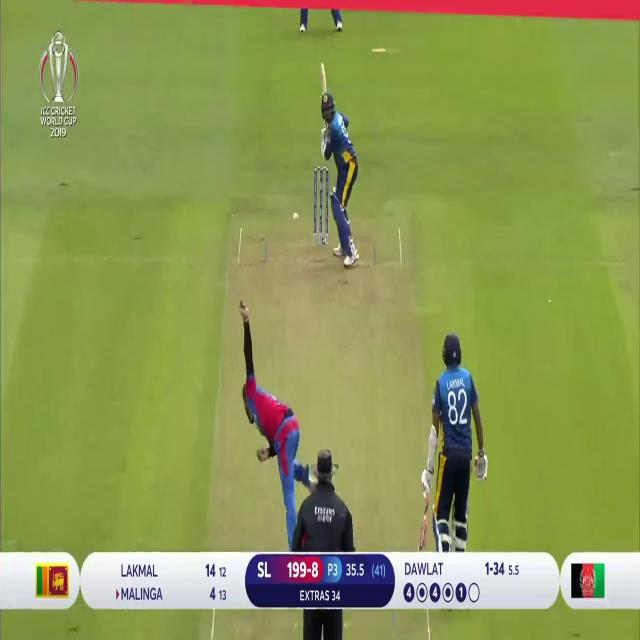ball: (288, 206, 304, 227)
stump: (310, 157, 332, 250)
